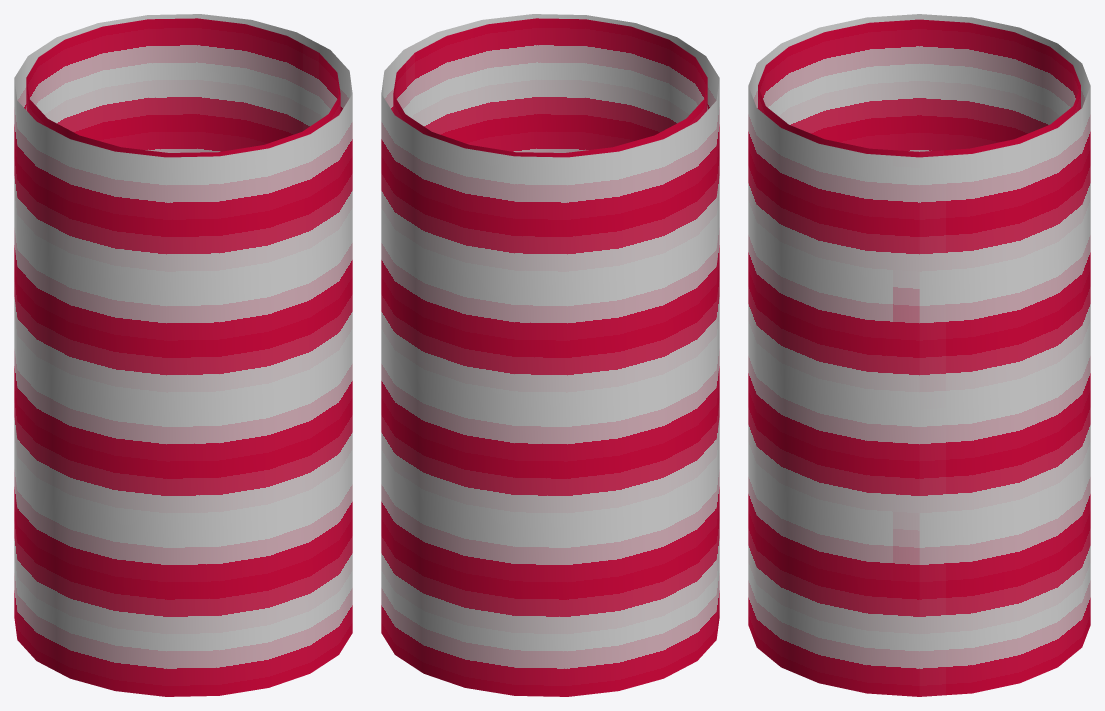
The model's file is transporter2.obj.
3 views of the same model, side by side, from view 1: azimuth 30°, elevation 25°; view 2: azimuth 150°, elevation 25°; view 3: azimuth 270°, elevation 25° (orthographic).
Parts seen in each view (by area): view 1: pPipe1; view 2: pPipe1; view 3: pPipe1.
Part boxes in pixels (x1,y1,x2,y2): pPipe1: [14, 14, 352, 696]; pPipe1: [381, 14, 719, 696]; pPipe1: [748, 14, 1090, 696].
Bounding box in the file's own units: 40.47 × 71.01 × 40.82.
